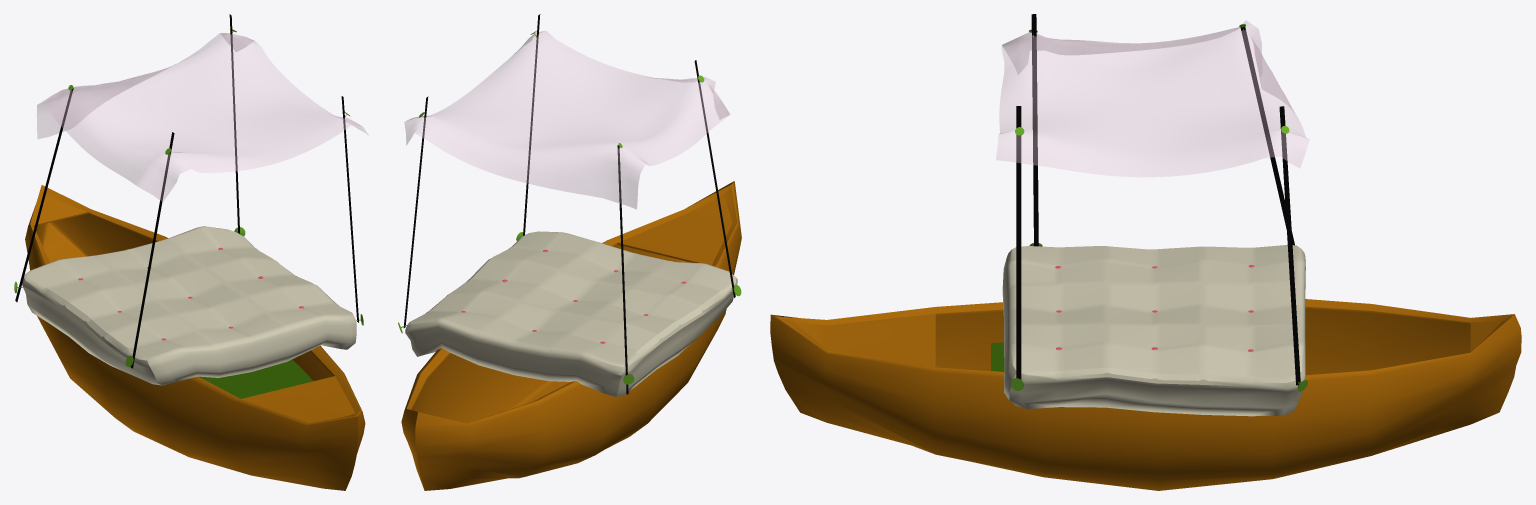
File: bedcanoe_v2.fbx
The picture shows the model from 3 angles, left to right: view 1: azimuth 30°, elevation 25°; view 2: azimuth 150°, elevation 25°; view 3: azimuth 270°, elevation 25°; orthographic projection. The views are drawn at different scales.
Parts seen in each view (by area): view 1: pCube4, pCube1, pPlane6, pCube3, pPlane4, pPlane3, pPlane1, pPlane2; view 2: pCube4, pCube1, pPlane6, pPlane3, pPlane4, pPlane2, pPlane1; view 3: pCube1, pCube4, pPlane6, pPlane1, pPlane2, pPlane4, pPlane3.
Boxes of the visible parts, box(x1,y1,x2,y2) form: pCube4: box(22, 226, 356, 385); pCube1: box(25, 185, 365, 490); pPlane6: box(37, 33, 368, 201); pCube3: box(199, 359, 313, 398); pPlane4: box(130, 132, 174, 368); pPlane3: box(15, 88, 73, 302); pPlane1: box(341, 96, 358, 322); pPlane2: box(229, 14, 239, 233); pCube4: box(405, 231, 737, 396); pCube1: box(401, 181, 741, 490); pPlane6: box(404, 30, 729, 209); pPlane3: box(617, 145, 628, 394); pPlane4: box(694, 60, 735, 297); pPlane2: box(403, 96, 428, 327); pPlane1: box(523, 14, 540, 235); pCube1: box(770, 299, 1521, 490); pCube4: box(1002, 245, 1305, 416); pPlane6: box(996, 20, 1309, 176); pPlane1: box(1016, 106, 1021, 379); pPlane2: box(1279, 106, 1300, 385); pPlane4: box(1031, 14, 1038, 246); pPlane3: box(1240, 27, 1294, 245).
Bounding box in the file's own units: 6.29 × 8.82 × 14.79.
